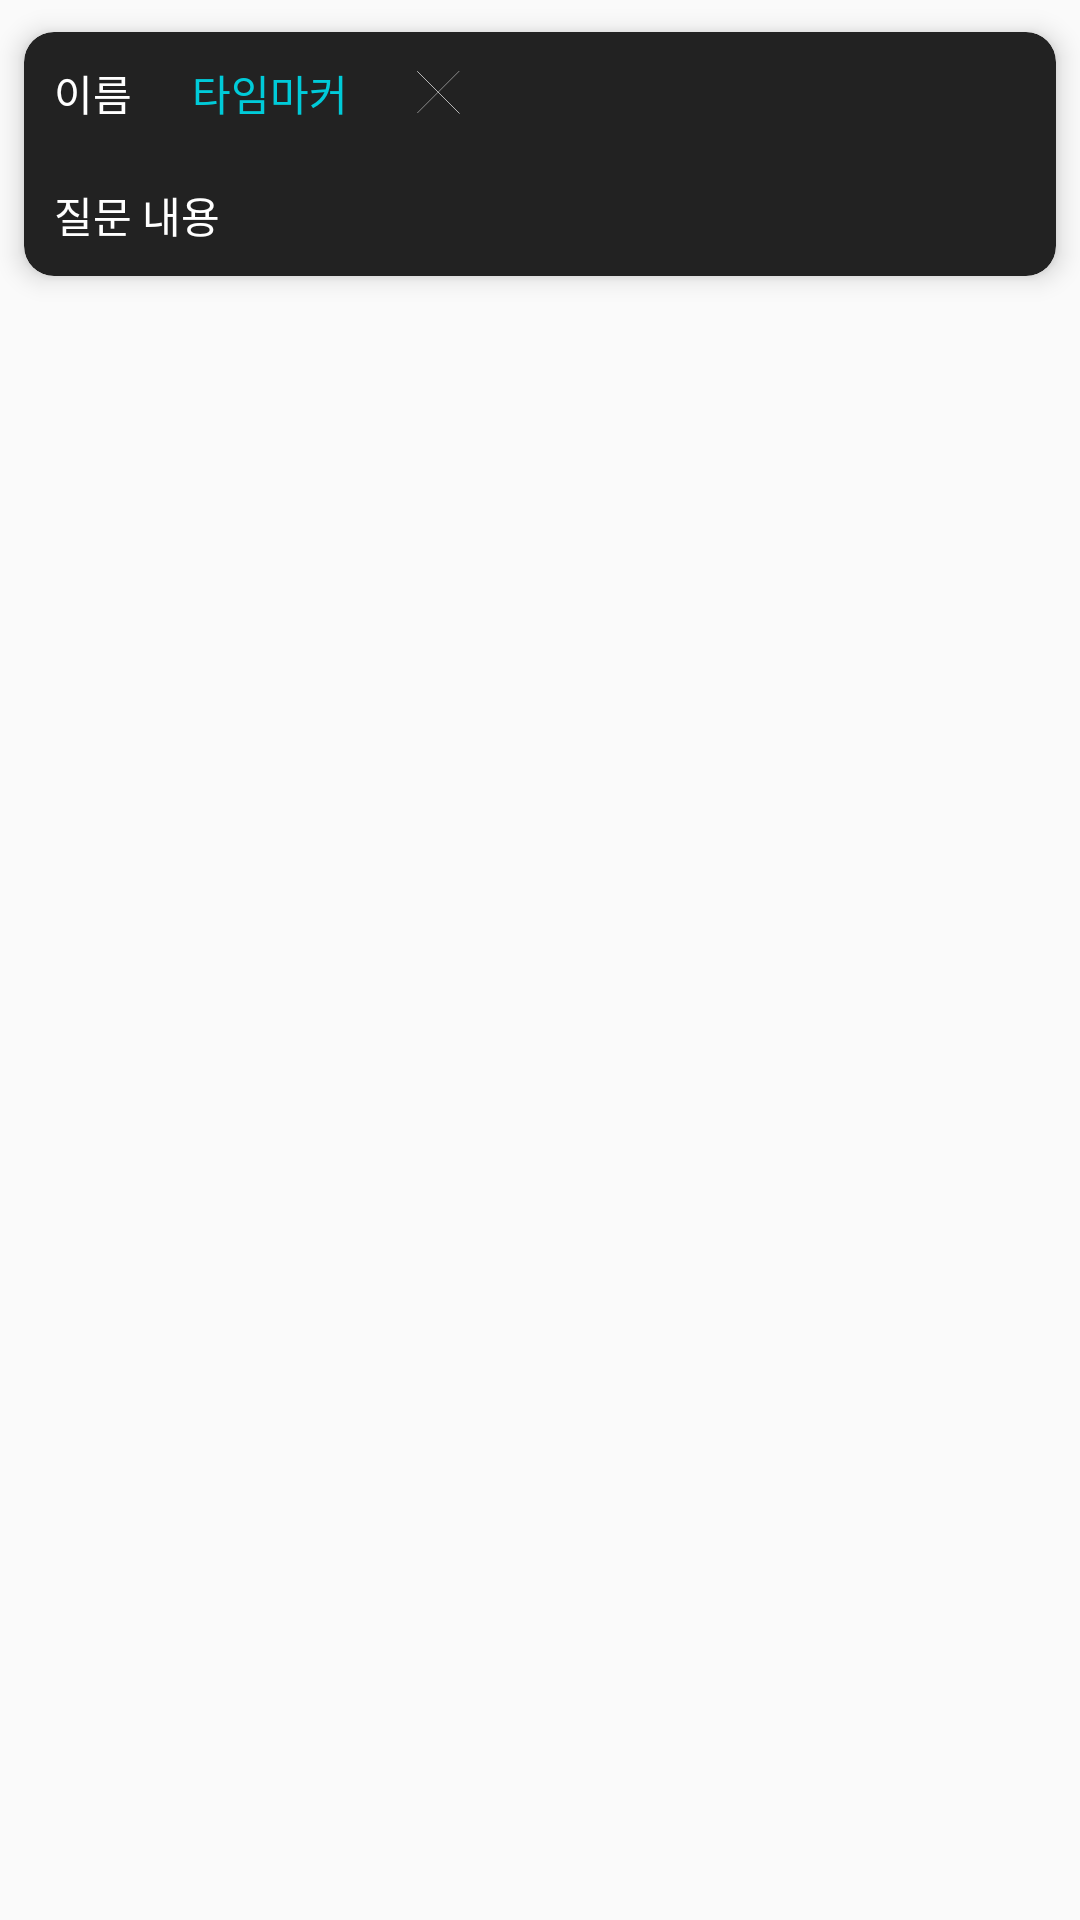

Screen size 1080×1920. Icon name, then its center in pixels as point (x, y):
xbutton: point (438, 92)
